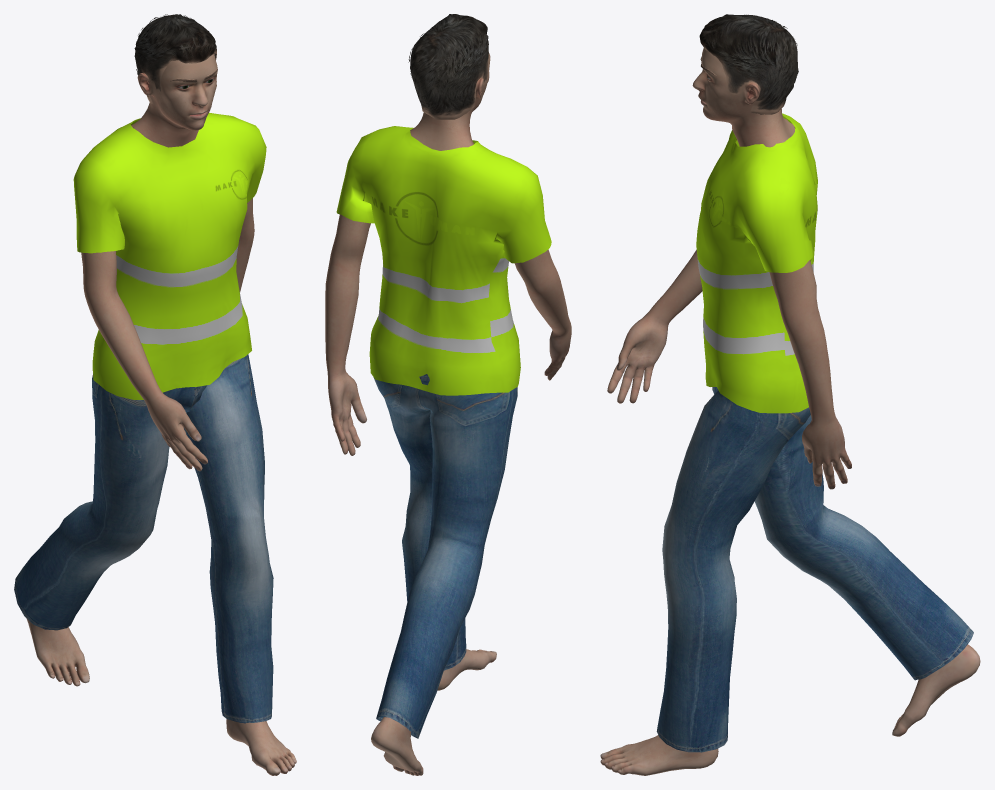
File: walking_worker_vest.dae
3 views of the same model, side by side, from view 1: azimuth 30°, elevation 25°; view 2: azimuth 150°, elevation 25°; view 3: azimuth 270°, elevation 25° (orthographic). The views are drawn at different scales.
Parts seen in each view (by area): view 1: v2_jeans01, v2_tshirt02, v2_Body, v2_mhair02; view 2: v2_tshirt02, v2_jeans01, v2_Body, v2_mhair02; view 3: v2_jeans01, v2_tshirt02, v2_Body, v2_mhair02.
Boxes of the visible parts, box(x1,y1,x2,y2) form: v2_jeans01: box(14, 354, 273, 723); v2_tshirt02: box(73, 112, 266, 399); v2_Body: box(26, 53, 296, 775); v2_mhair02: box(134, 14, 216, 103); v2_tshirt02: box(336, 126, 551, 395); v2_jeans01: box(373, 374, 517, 738); v2_Body: box(325, 52, 571, 775); v2_mhair02: box(408, 14, 488, 119); v2_jeans01: box(656, 387, 973, 752); v2_tshirt02: box(696, 113, 817, 413); v2_Body: box(600, 48, 980, 775); v2_mhair02: box(699, 14, 798, 114).
Bounding box in the file's own units: 0.5461 × 0.882 × 1.87.
7 materials, 7 textured.
